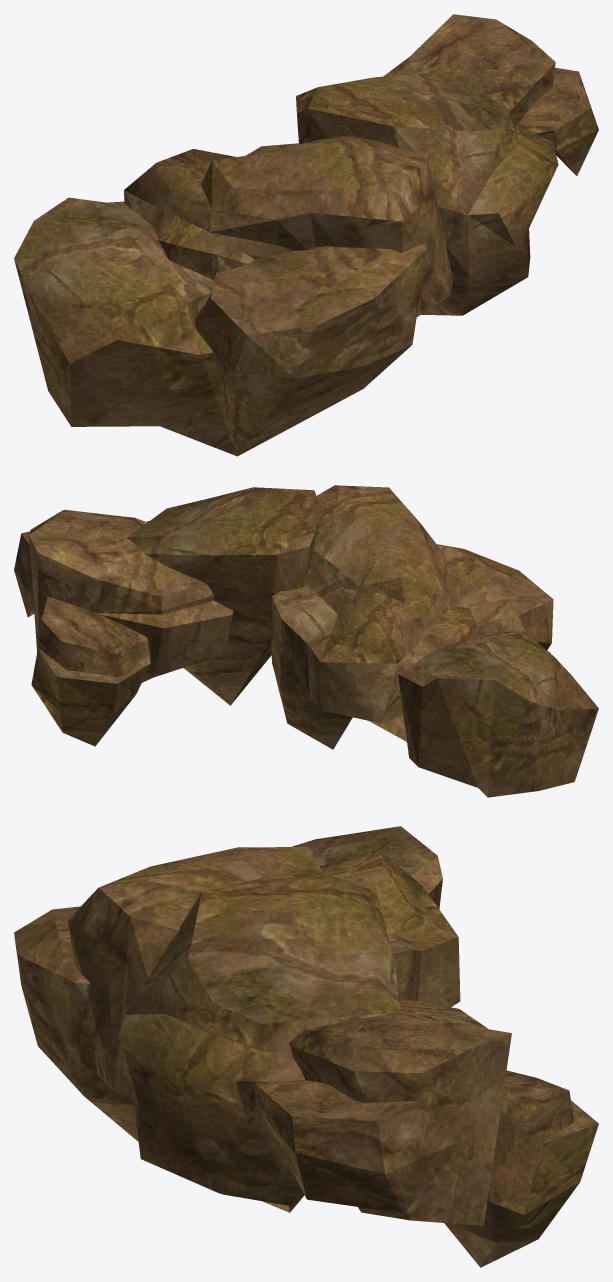
Rendered from S_Rock_Yellow003.FBX.
The picture shows the model from 3 angles, top to bottom: view 1: azimuth 30°, elevation 25°; view 2: azimuth 150°, elevation 25°; view 3: azimuth 270°, elevation 25°; orthographic projection. The views are drawn at different scales.
Visible parts, largest first — view 1: S_Rock_Yellow003; view 2: S_Rock_Yellow003; view 3: S_Rock_Yellow003.
Part boxes in pixels (<box>): S_Rock_Yellow003: <box>14,14,598,456</box>; S_Rock_Yellow003: <box>14,485,598,797</box>; S_Rock_Yellow003: <box>14,826,598,1267</box>.
Size of the model in its own units: 775 by 540 by 365.
